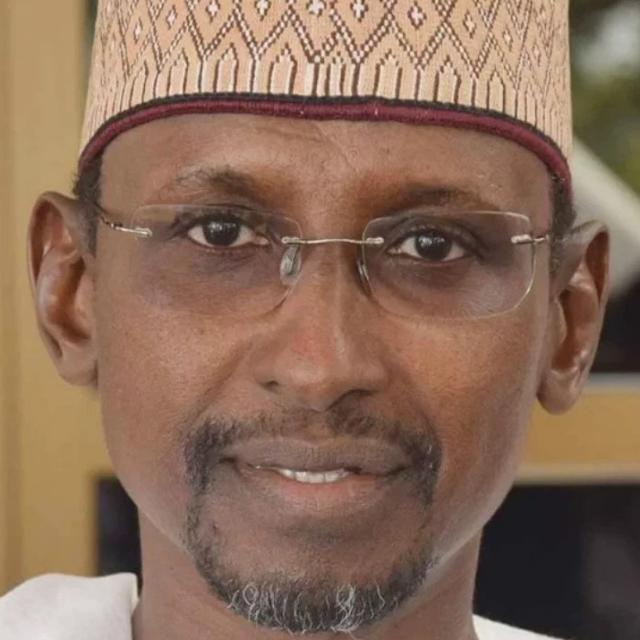Normal: (93, 115, 567, 623)
